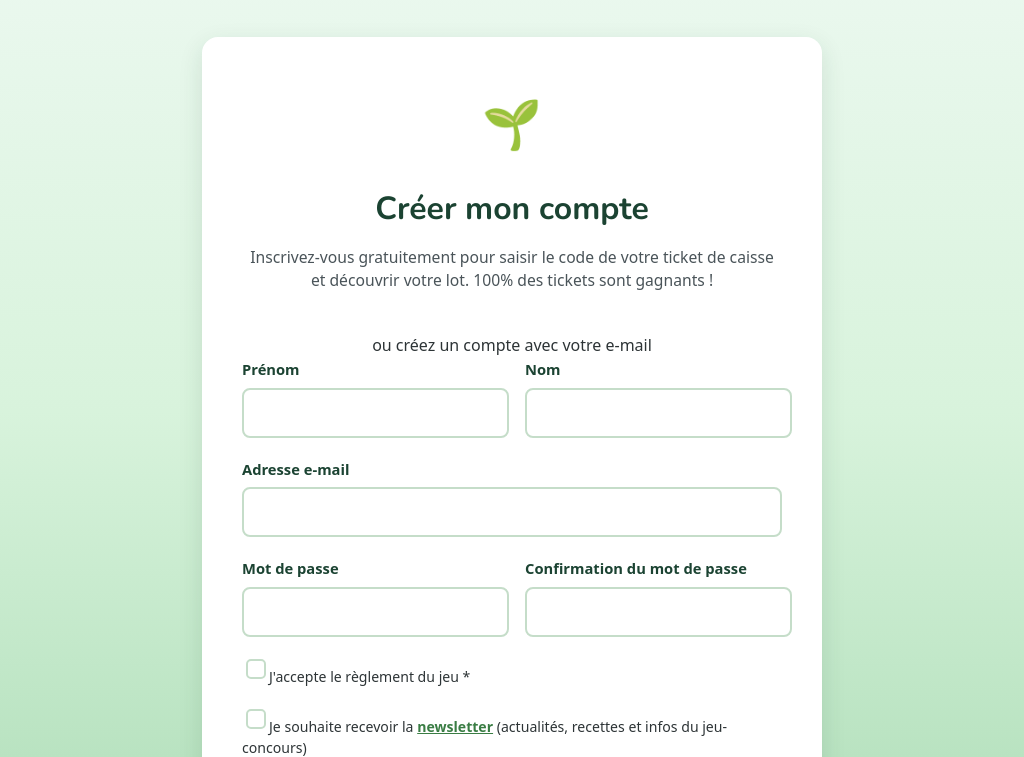
Test: Inscription › refuse deux mots de passe différents
In the field labelled "Prénom": (376, 413) [242,388,509,438], type "Jean"
In the field labelled "Nom": (658, 413) [525,388,792,438], type "Dupont"
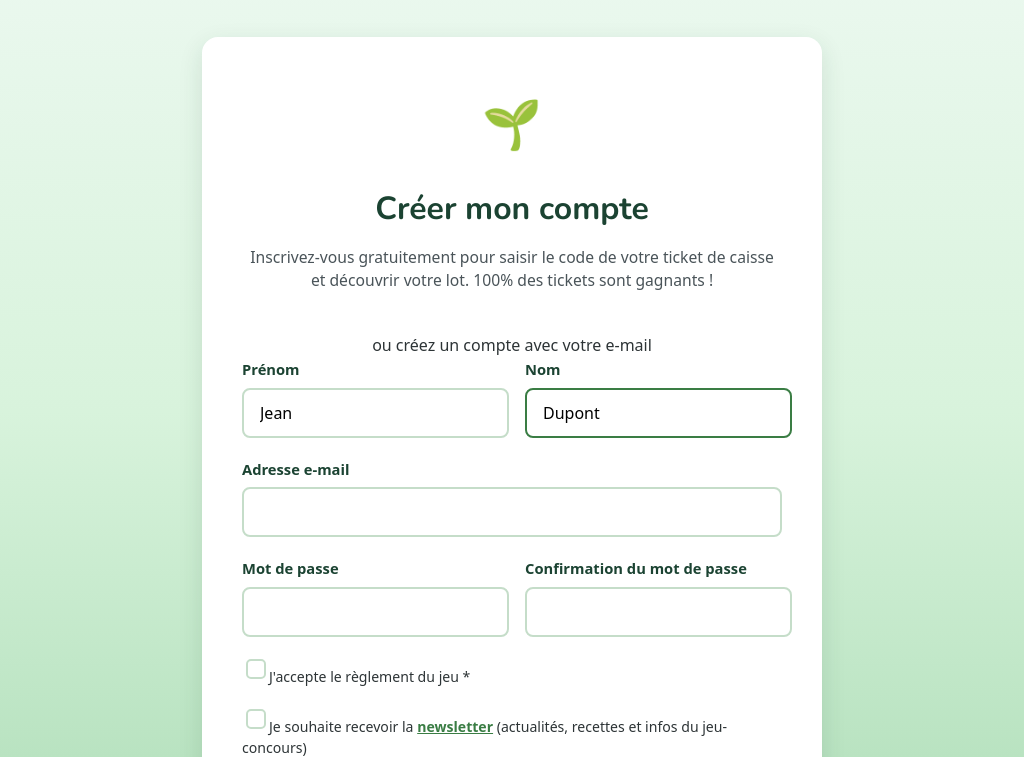
In the field labelled "Adresse e-mail": (512, 512) [242,487,782,537], type "jean@example.com"
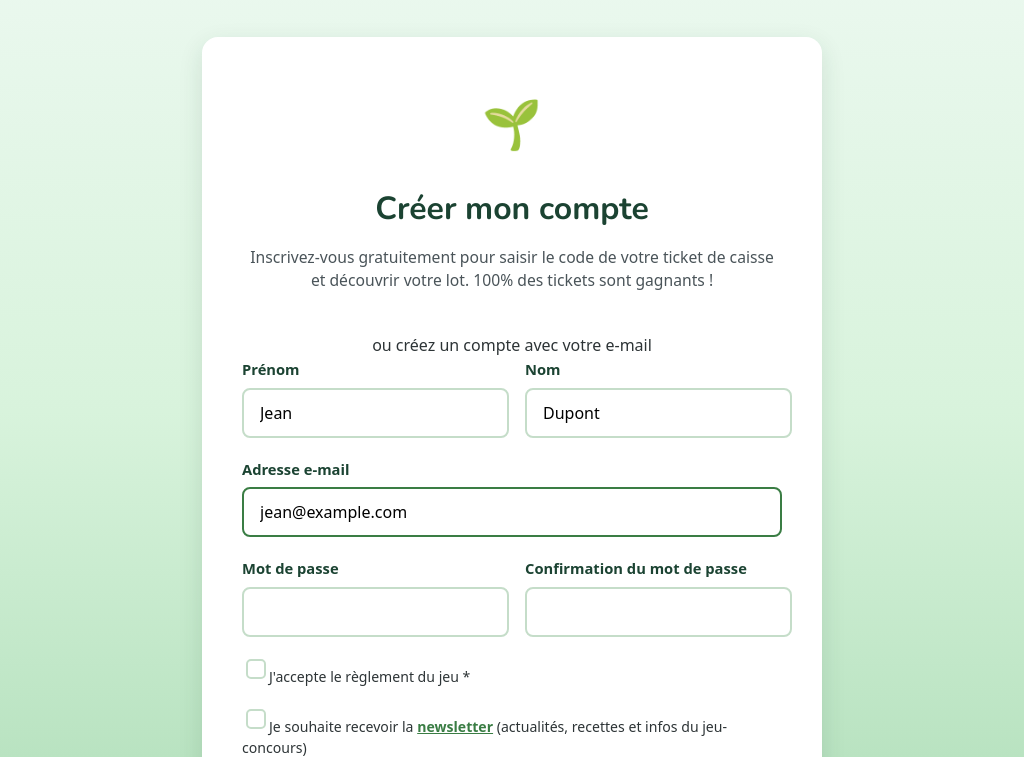
In the password field labelled "Mot de passe": (376, 612) [242,587,509,637], type "Password1!"
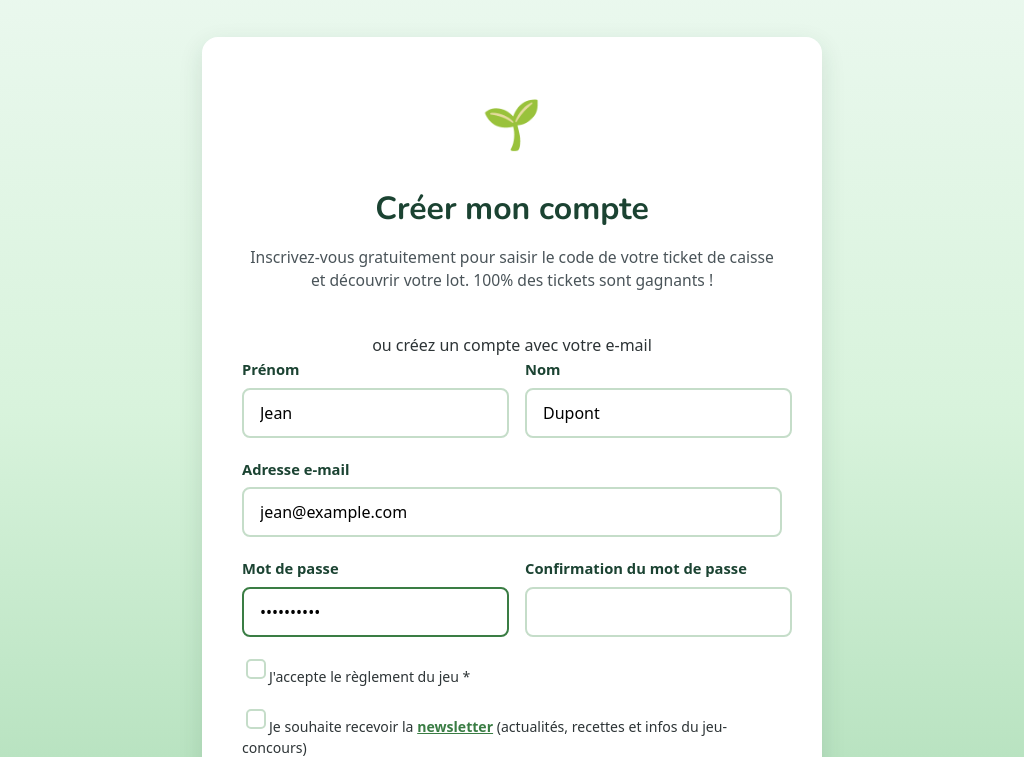
In the password field labelled "Confirmation du mot de passe": (658, 612) [525,587,792,637], type "AutrePass1!"
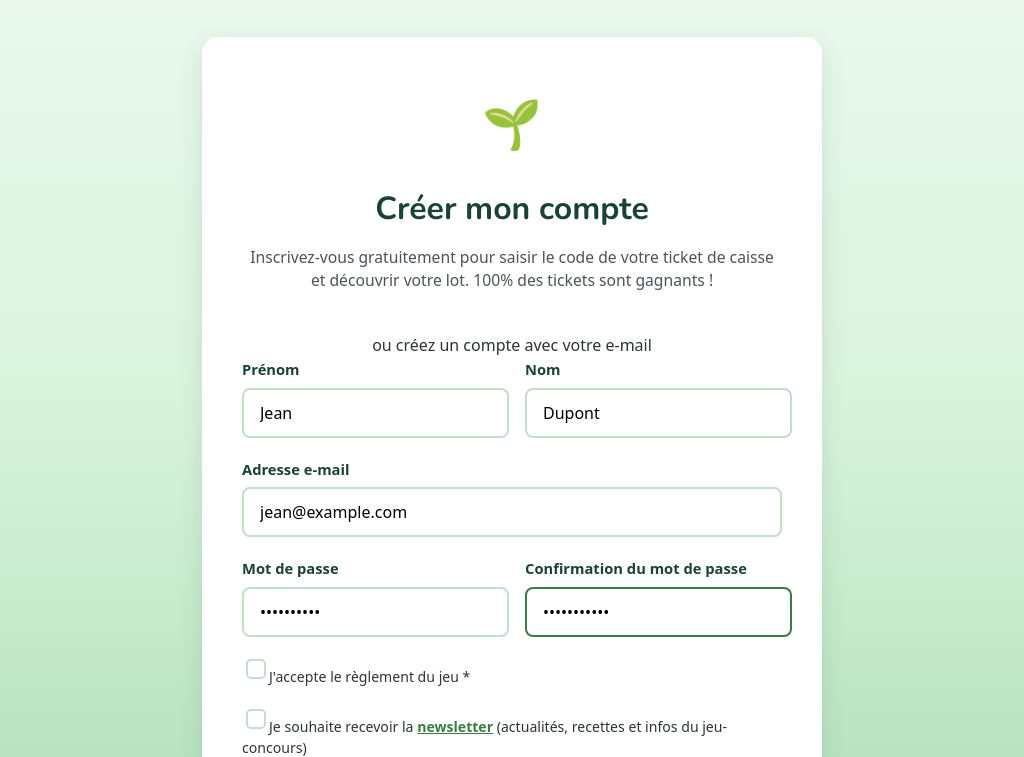
Click the checkbox labelled "J'accepte le règlement du jeu *": (256, 669) [246,659,266,679]
(page scrolled)
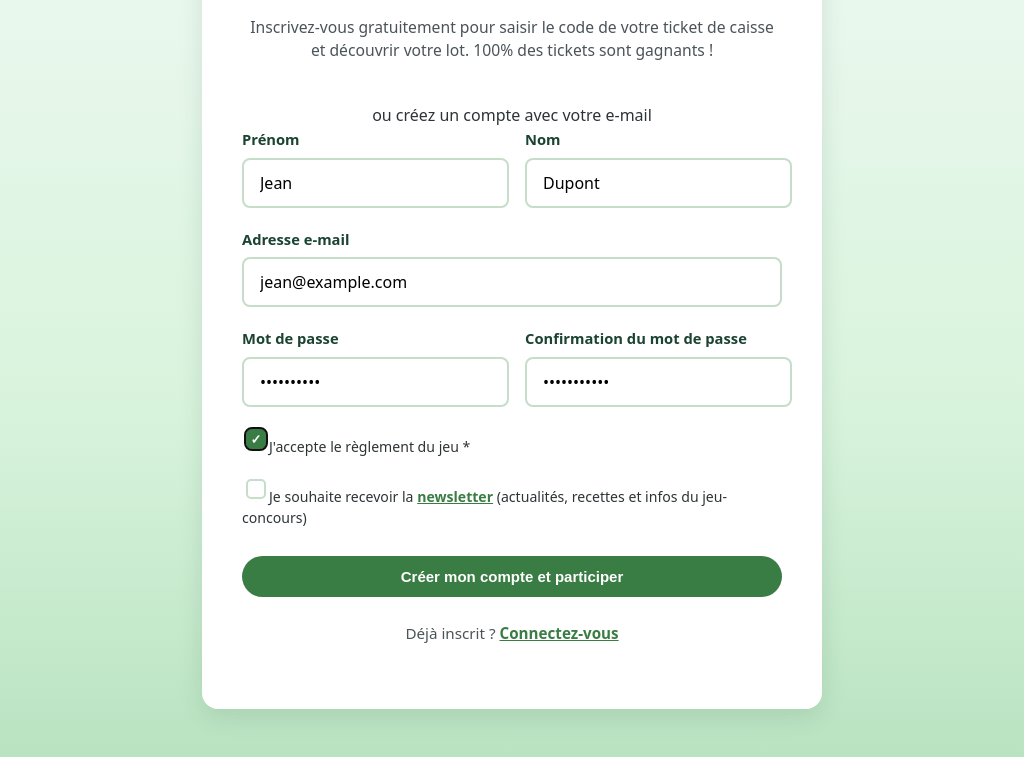
Click the button "Créer mon compte et participer": (512, 577) [242,556,782,597]
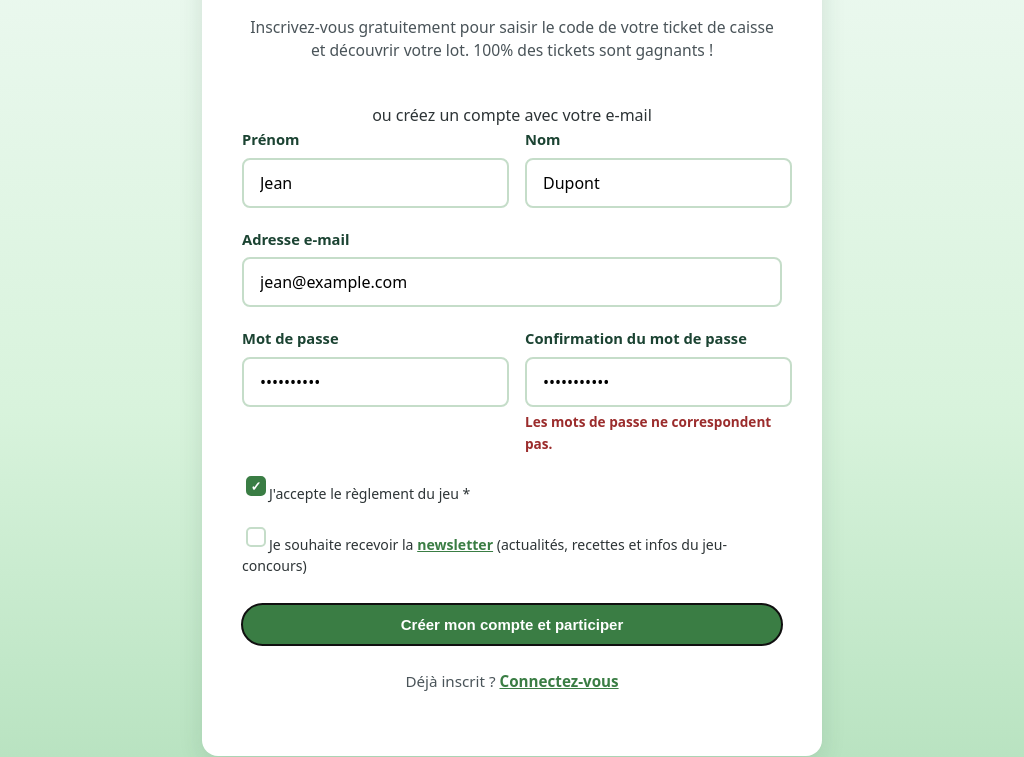
Expected: the text "Les mots de passe ne correspondent pas." is shown, [525,411,792,454]
